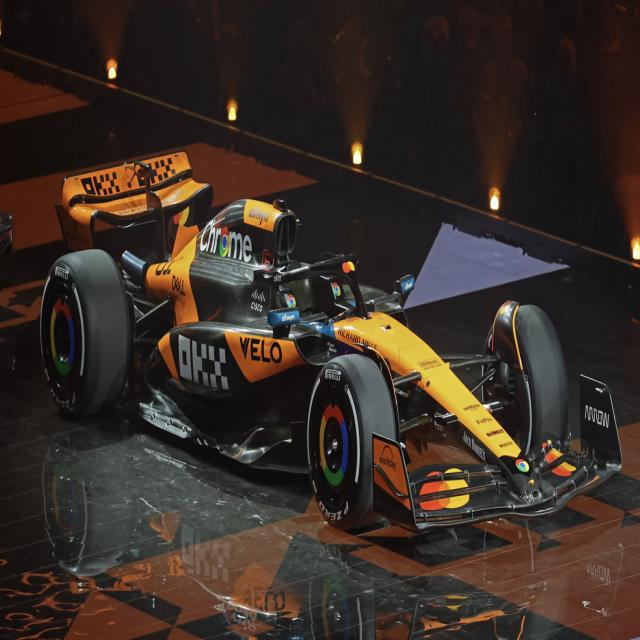McLaren: (40, 140, 624, 543)
